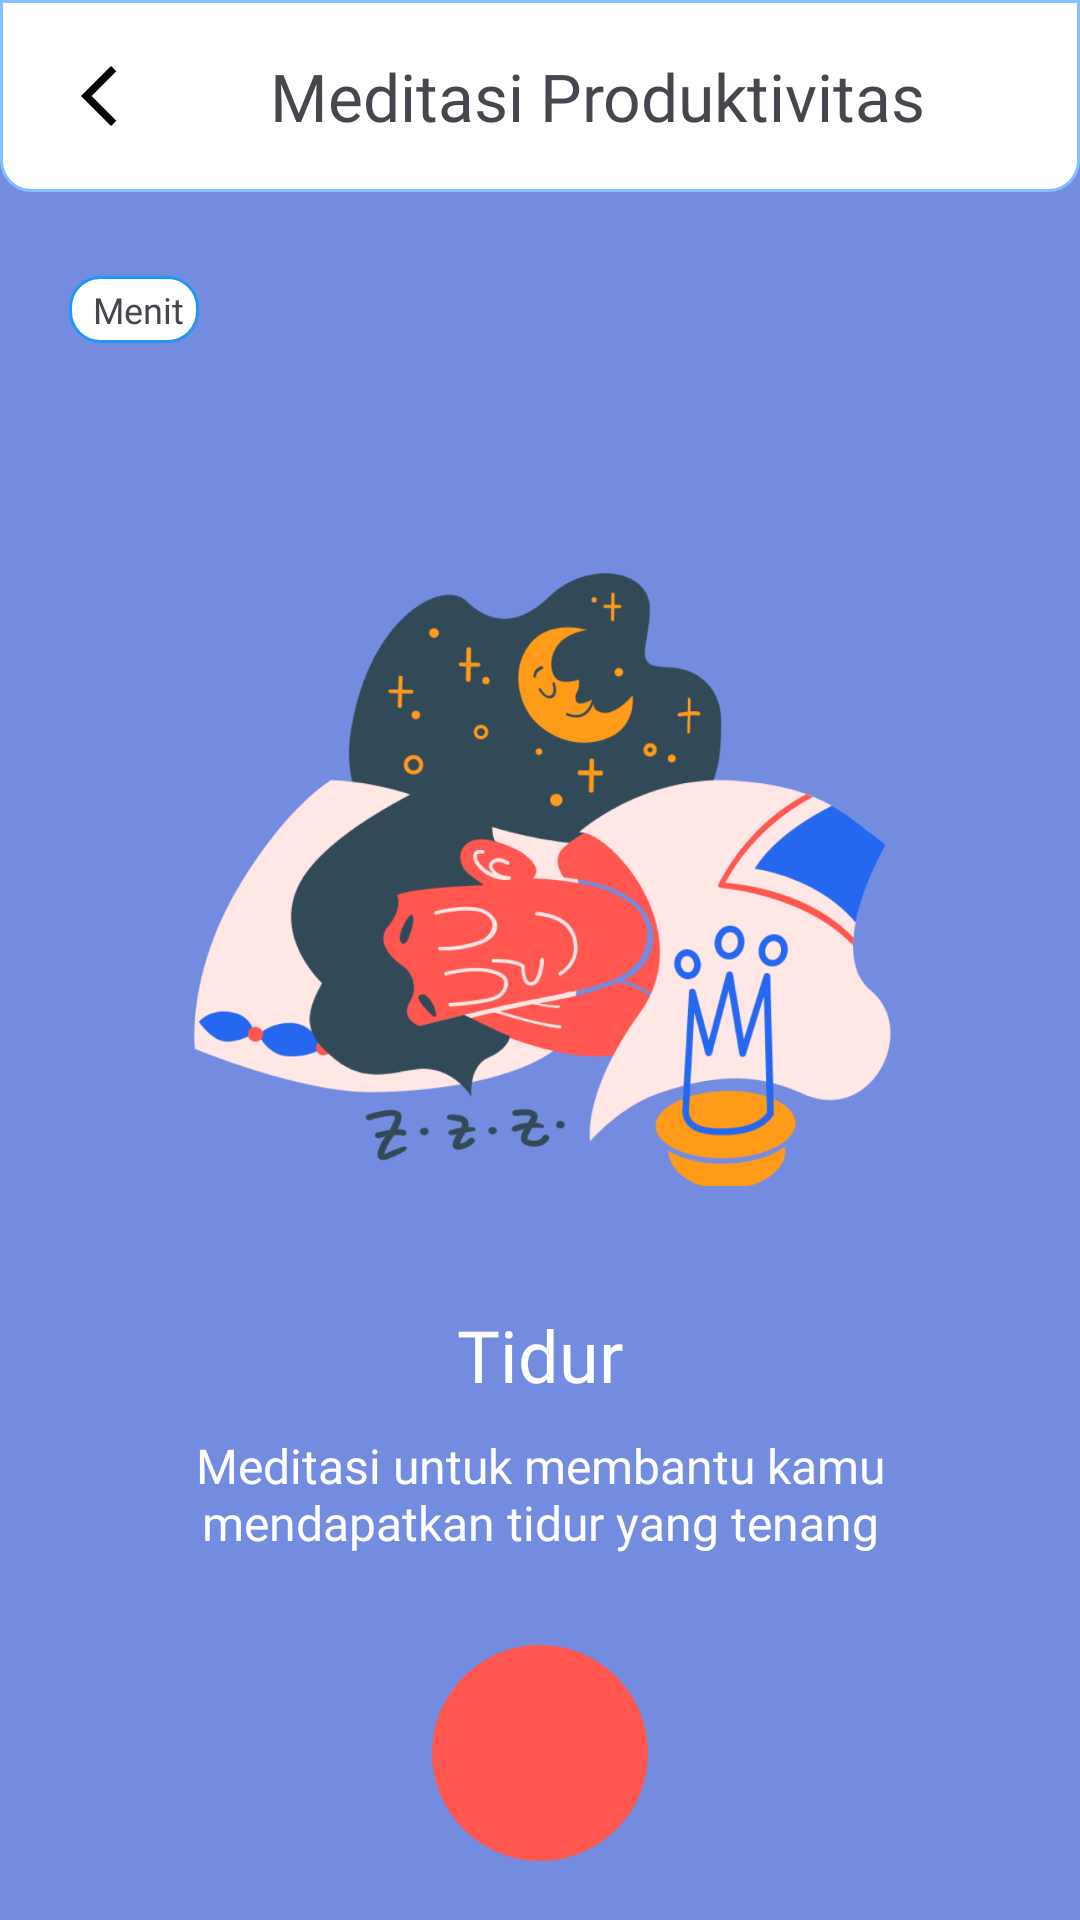

Point at icon controls on the screen. Image size 1080w x 1920h, points as (x,y).
kembali: (98,96)
